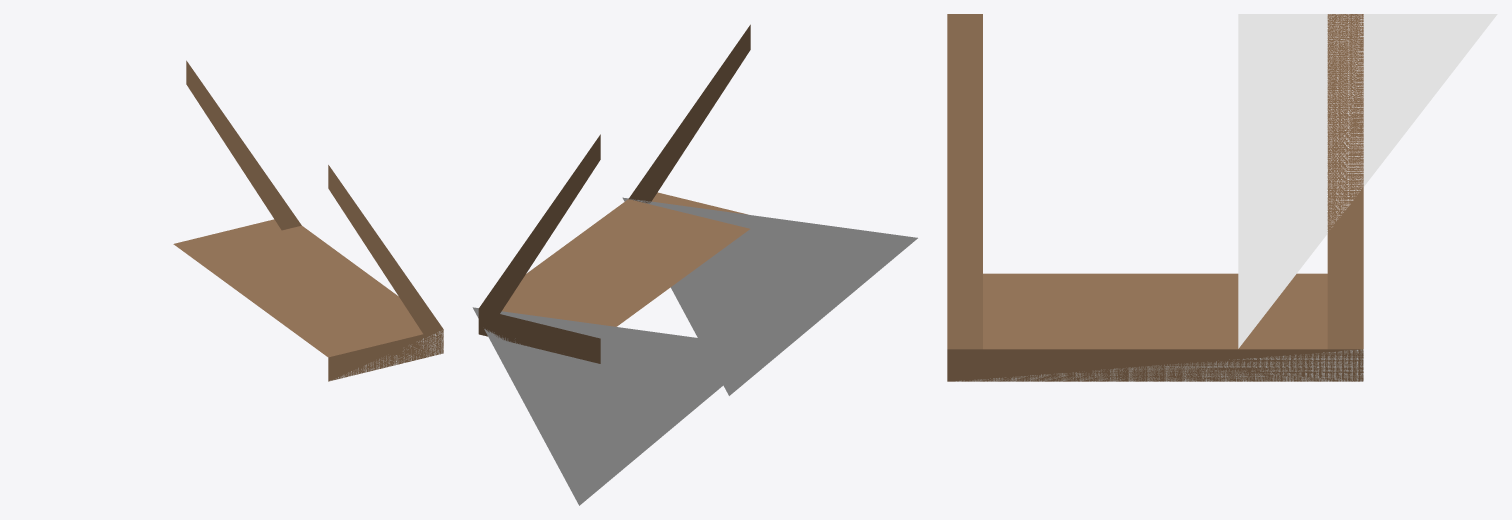
3 renders of one model, left to right at view 1: azimuth 30°, elevation 25°; view 2: azimuth 150°, elevation 25°; view 3: azimuth 270°, elevation 25°, orthographic. The views are drawn at different scales.
Size of the model in its own units: 97 by 118 by 123.
Materials: 1 (1 with a texture image).
